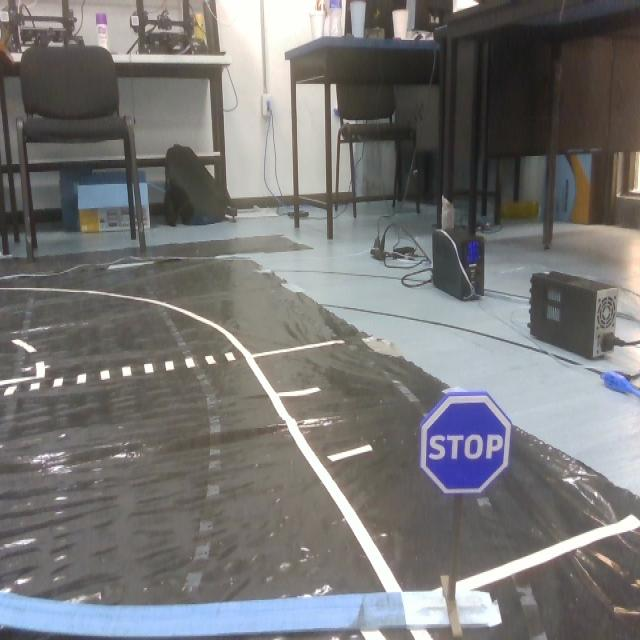no_entry: (427, 388, 505, 503)
